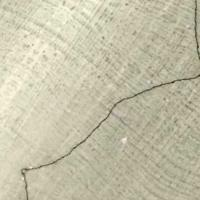crack: (19, 1, 199, 199)
